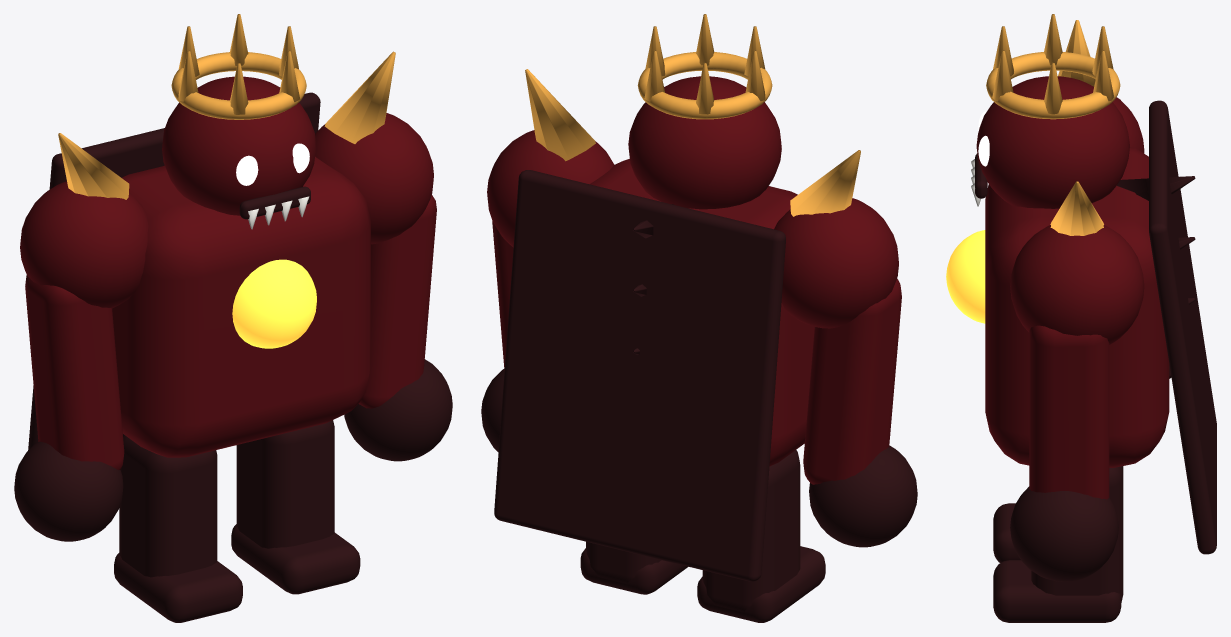
File: hoevding.glb
3 views of the same model, side by side, from view 1: azimuth 30°, elevation 25°; view 2: azimuth 150°, elevation 25°; view 3: azimuth 270°, elevation 25° (orthographic).
Parts seen in each view (by area): view 1: krop_net, armV_net, benV_net, armH_net, benH_net; view 2: krop_net, armV_net, benV_net, benH_net, armH_net; view 3: krop_net, armH_net, benH_net, benV_net.
Boxes of the visible parts, x1,y1,x2,y2 form: krop_net: [20, 14, 433, 457]; armV_net: [14, 275, 124, 541]; benV_net: [114, 434, 242, 622]; armH_net: [344, 195, 452, 461]; benH_net: [231, 420, 360, 594]; krop_net: [487, 14, 898, 581]; armV_net: [803, 278, 917, 547]; benV_net: [697, 450, 825, 622]; benH_net: [580, 541, 688, 594]; armH_net: [481, 221, 513, 452]; krop_net: [946, 14, 1216, 554]; armH_net: [1010, 325, 1118, 581]; benH_net: [993, 466, 1123, 622]; benV_net: [993, 503, 1020, 562].
Bounding box in the file's own units: 3.04 × 3.74 × 1.69.
